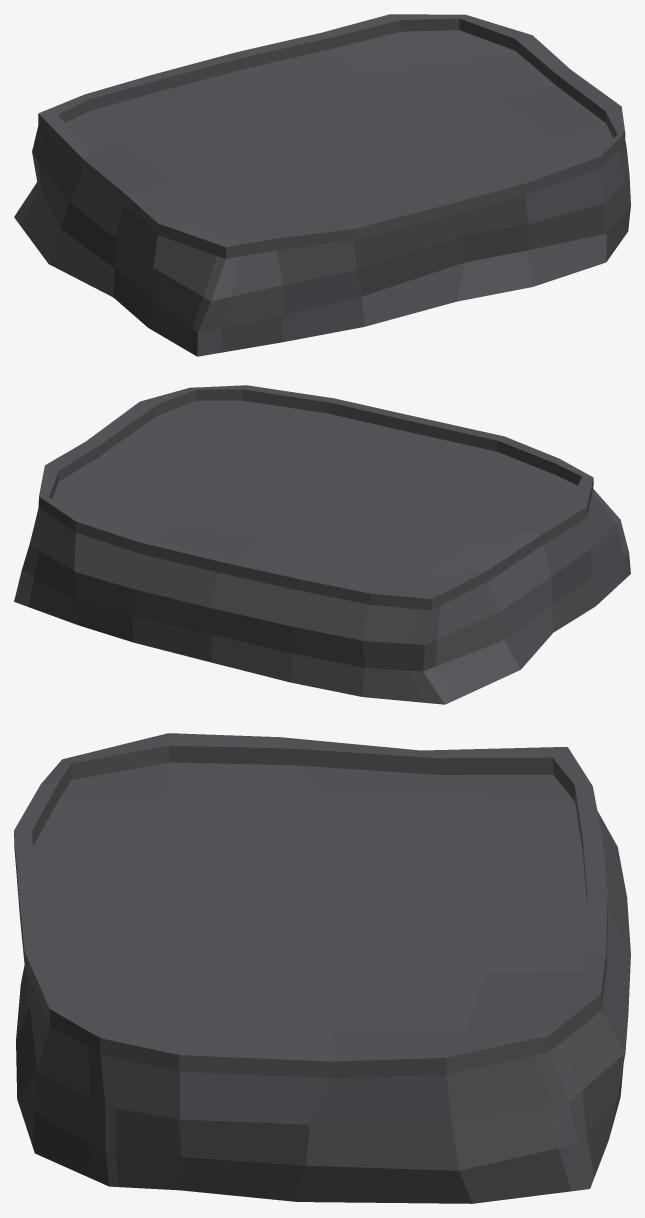
The model's file is Slab6.glb.
3 views of the same model, one above another, from view 1: azimuth 30°, elevation 25°; view 2: azimuth 150°, elevation 25°; view 3: azimuth 270°, elevation 25° (orthographic). The views are drawn at different scales.
Visible parts, largest first — view 1: Slab6; view 2: Slab6; view 3: Slab6.
Boxes of the visible parts, x1=… form: Slab6: x1=14, y1=14, x2=630, y2=356; Slab6: x1=14, y1=385, x2=630, y2=704; Slab6: x1=14, y1=733, x2=630, y2=1203.
Size of the model in its own units: 2.64 by 0.5578 by 2.
1 material, 1 textured.
